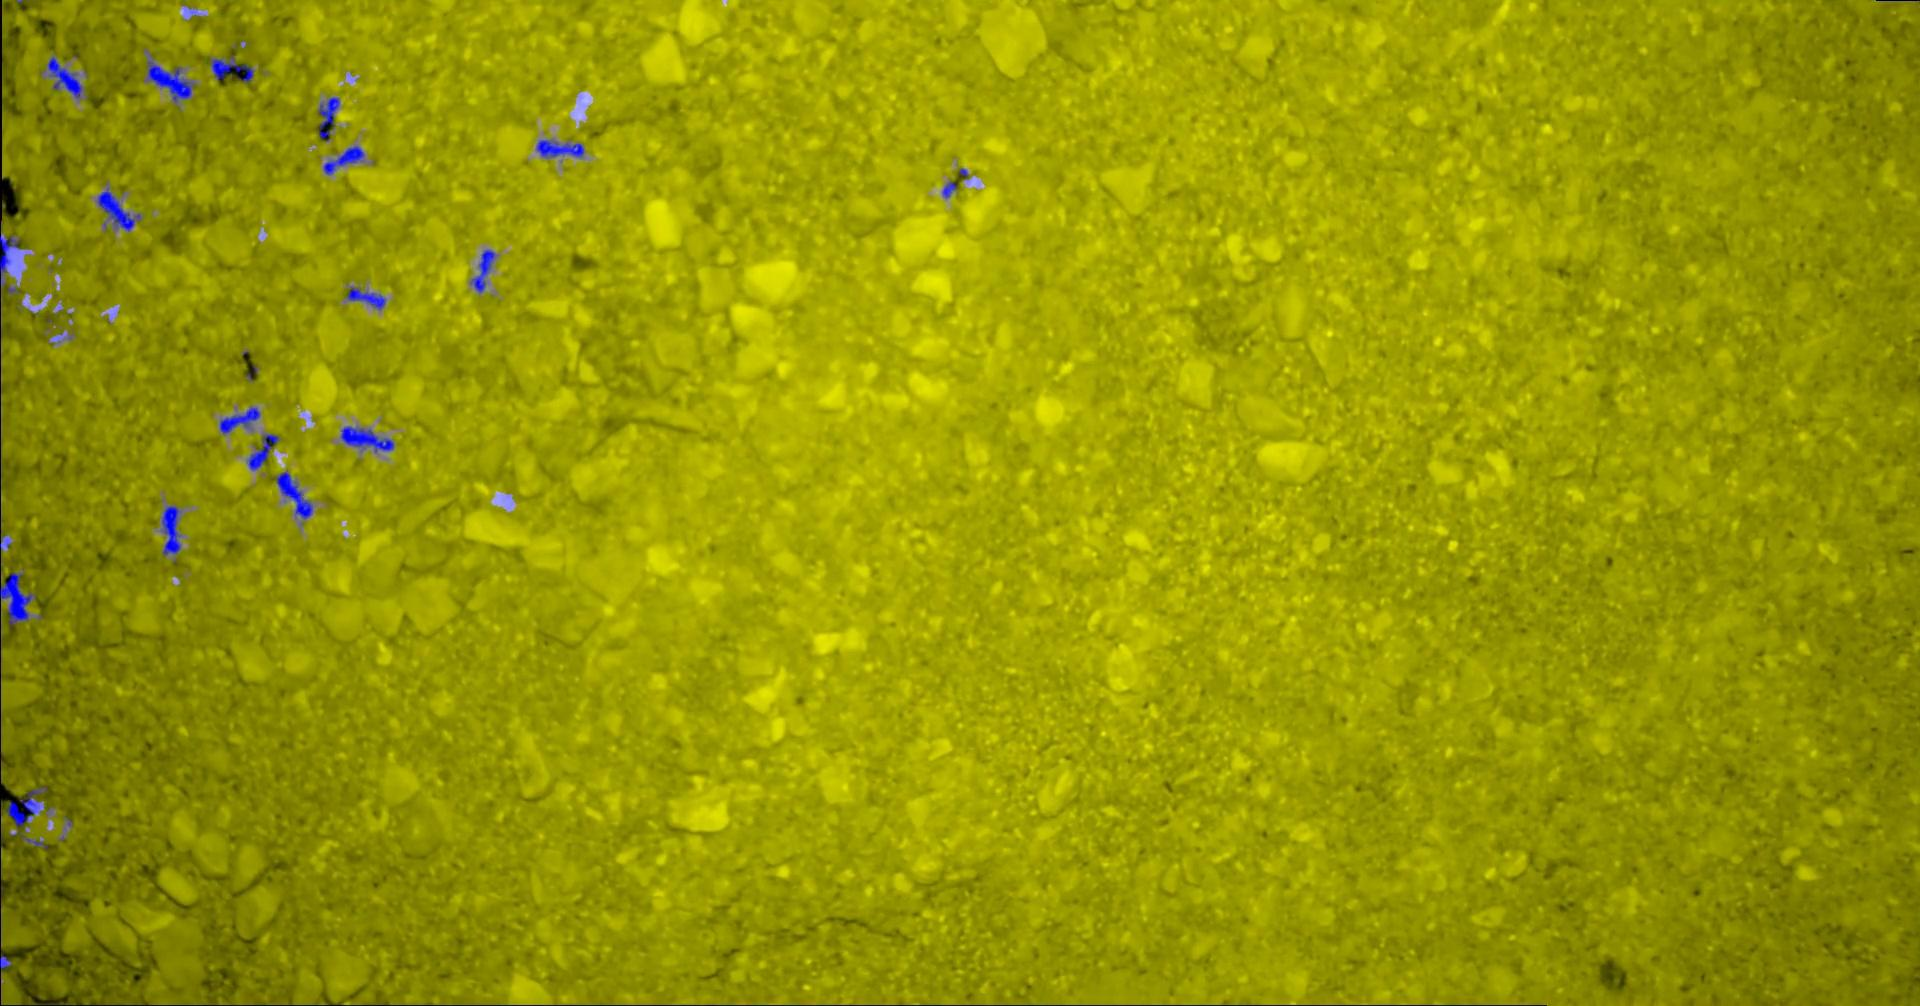ant: (6, 786, 47, 848), (147, 60, 196, 102), (97, 187, 140, 231), (0, 572, 36, 625), (274, 470, 312, 518), (0, 220, 20, 297), (47, 55, 81, 98), (340, 426, 392, 451), (210, 55, 253, 83), (323, 145, 363, 174), (246, 433, 278, 469), (218, 406, 259, 433), (470, 249, 494, 292), (160, 506, 180, 554), (317, 97, 339, 140), (345, 286, 385, 309), (536, 138, 583, 158), (0, 528, 10, 553), (942, 180, 956, 197), (0, 955, 11, 970)
